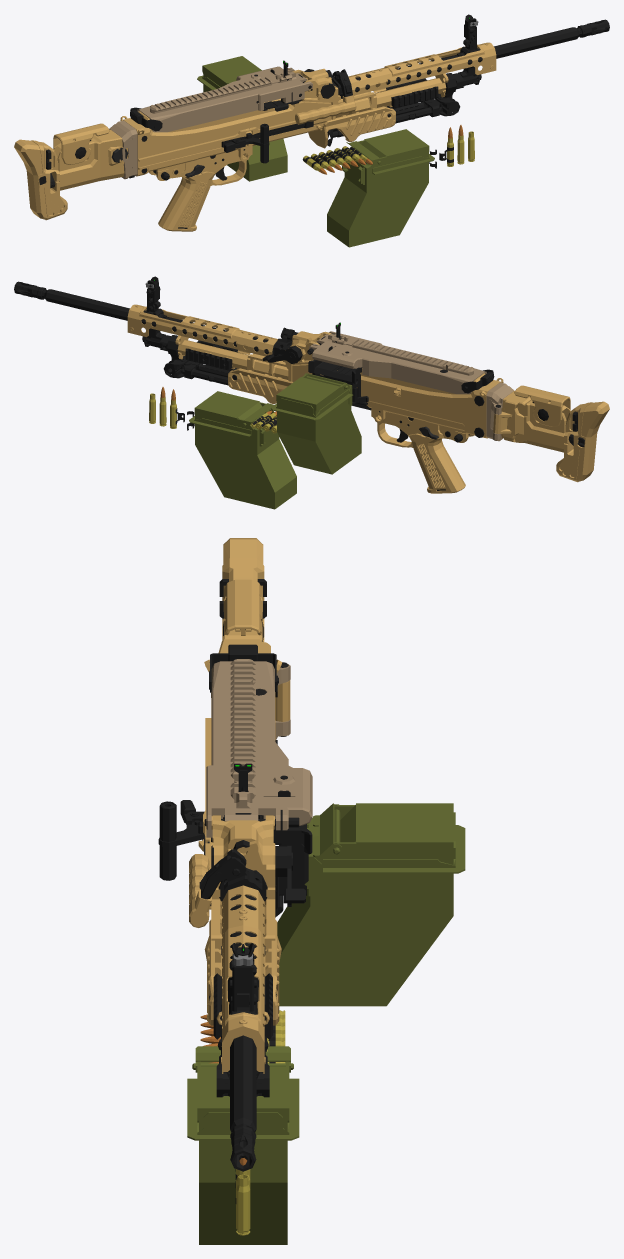
The picture shows the model from 3 angles, top to bottom: view 1: azimuth 30°, elevation 25°; view 2: azimuth 150°, elevation 25°; view 3: azimuth 270°, elevation 25°; orthographic projection. The views are drawn at different scales.
Parts seen in each view (by area): view 1: mg5 receiver_5, mg5 100rnd ammo box_20, mg5 21in barrel_4, mg5 cover_17, mg5 stock butt_16, mg5 100rnd empty ammo box_19, mg5 stock base_14, mg5 handguard_8, mg5 bipod_21, mg5 stock cheek_15, mg5 charging handle_12, mg5 front iron sight_7 (+1 smaller); view 2: mg5 receiver_5, mg5 100rnd ammo box_20, mg5 100rnd empty ammo box_19, mg5 cover_17, mg5 21in barrel_4, mg5 stock butt_16, mg5 stock base_14, mg5 handguard_8, mg5 stock cheek_15, mg5 bipod_21, mg5 front iron sight_7, mg5 flash hider_6; view 3: mg5 100rnd empty ammo box_19, mg5 100rnd ammo box_20, mg5 cover_17, mg5 21in barrel_4, mg5 receiver_5, mg5 charging handle_12, mg5 stock butt_16, mg5 stock cheek_15, mg5 handguard_8, mg5 front iron sight_7, mg5 stock base_14, mg5 flash hider_6 (+1 smaller).
Boxes of the visible parts, bbox=[...] form: mg5 receiver_5: bbox=[109, 68, 448, 231]; mg5 100rnd ammo box_20: bbox=[302, 129, 434, 247]; mg5 21in barrel_4: bbox=[295, 27, 582, 124]; mg5 cover_17: bbox=[130, 66, 312, 132]; mg5 stock butt_16: bbox=[14, 139, 67, 220]; mg5 100rnd empty ammo box_19: bbox=[197, 56, 287, 181]; mg5 stock base_14: bbox=[53, 129, 128, 190]; mg5 handguard_8: bbox=[308, 106, 395, 148]; mg5 bipod_21: bbox=[327, 73, 460, 146]; mg5 stock cheek_15: bbox=[53, 123, 109, 164]; mg5 charging handle_12: bbox=[221, 121, 313, 163]; mg5 front iron sight_7: bbox=[464, 14, 478, 49]; mg5 receiver_5: bbox=[175, 331, 514, 493]; mg5 100rnd ammo box_20: bbox=[189, 391, 296, 509]; mg5 100rnd empty ammo box_19: bbox=[271, 373, 361, 474]; mg5 cover_17: bbox=[307, 331, 494, 394]; mg5 21in barrel_4: bbox=[41, 289, 294, 360]; mg5 stock butt_16: bbox=[556, 401, 609, 482]; mg5 stock base_14: bbox=[493, 391, 570, 452]; mg5 handguard_8: bbox=[228, 368, 292, 403]; mg5 stock cheek_15: bbox=[514, 385, 570, 426]; mg5 bipod_21: bbox=[163, 335, 228, 385]; mg5 front iron sight_7: bbox=[145, 276, 160, 311]; mg5 flash hider_6: bbox=[14, 281, 46, 299]; mg5 100rnd empty ammo box_19: bbox=[277, 803, 465, 1006]; mg5 100rnd ammo box_20: bbox=[187, 1010, 299, 1244]; mg5 cover_17: bbox=[204, 644, 312, 837]; mg5 21in barrel_4: bbox=[189, 849, 267, 1153]; mg5 receiver_5: bbox=[198, 659, 312, 1046]; mg5 charging handle_12: bbox=[158, 800, 211, 906]; mg5 stock butt_16: bbox=[219, 538, 266, 641]; mg5 stock cheek_15: bbox=[223, 579, 263, 641]; mg5 handguard_8: bbox=[204, 920, 281, 1025]; mg5 front iron sight_7: bbox=[229, 943, 257, 1011]; mg5 stock base_14: bbox=[211, 629, 290, 736]; mg5 flash hider_6: bbox=[230, 1123, 256, 1171].
Size of the model in its own units: 11.24 by 3.47 by 2.53.
